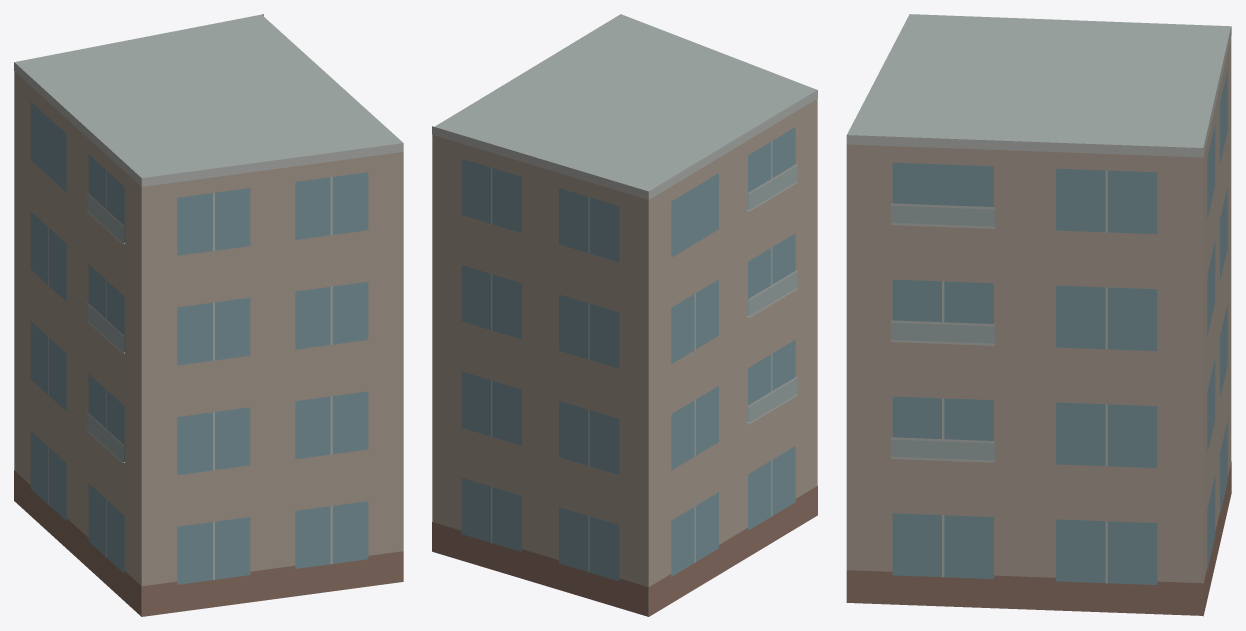
File: survey-upis-32652211.glb
3 renders of one model, left to right at view 1: azimuth 30°, elevation 25°; view 2: azimuth 150°, elevation 25°; view 3: azimuth 270°, elevation 25°, orthographic. The views are drawn at different scales.
Visible parts, largest first — view 1: survey-upis-32652211.tmp; view 2: survey-upis-32652211.tmp; view 3: survey-upis-32652211.tmp.
Boxes of the visible parts, box(x1,y1,x2,y2) form: survey-upis-32652211.tmp: box(14, 14, 403, 616); survey-upis-32652211.tmp: box(432, 14, 817, 616); survey-upis-32652211.tmp: box(846, 14, 1231, 616).
Bounding box in the file's own units: 7.57 × 12.2 × 9.1.
